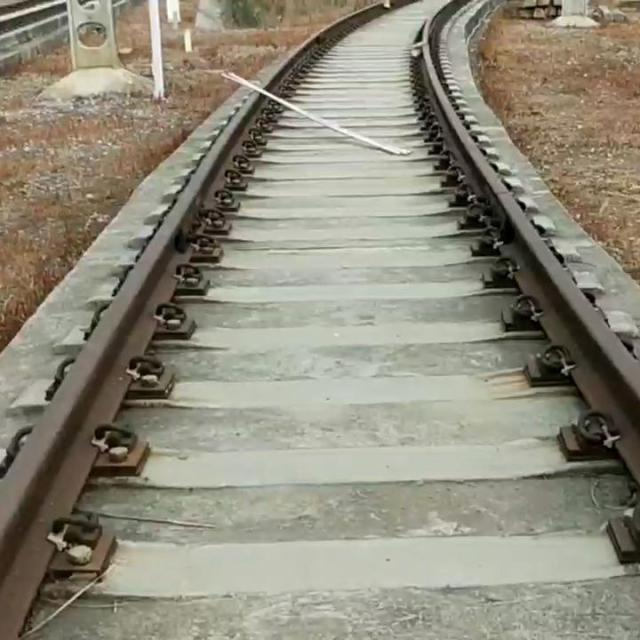rail: (1, 94, 266, 640), (422, 13, 640, 489), (259, 1, 389, 92)
